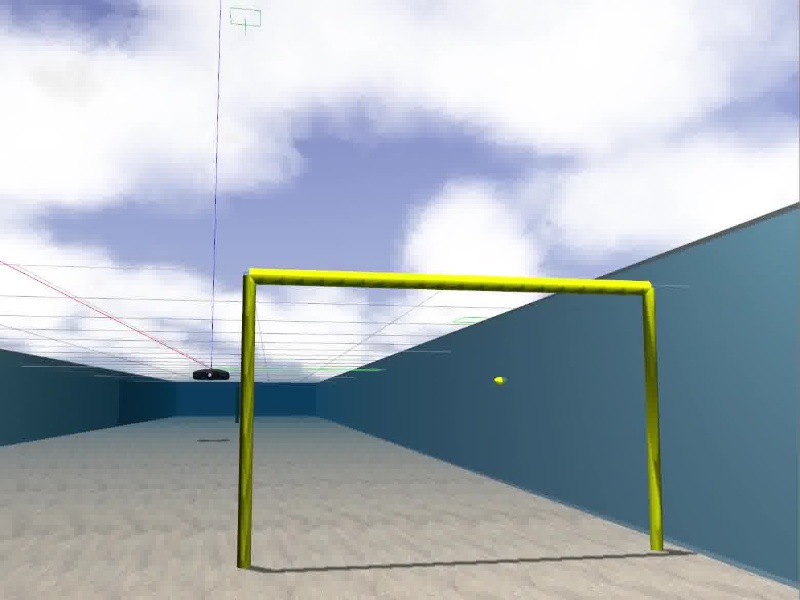gate: (236, 265, 667, 571)
